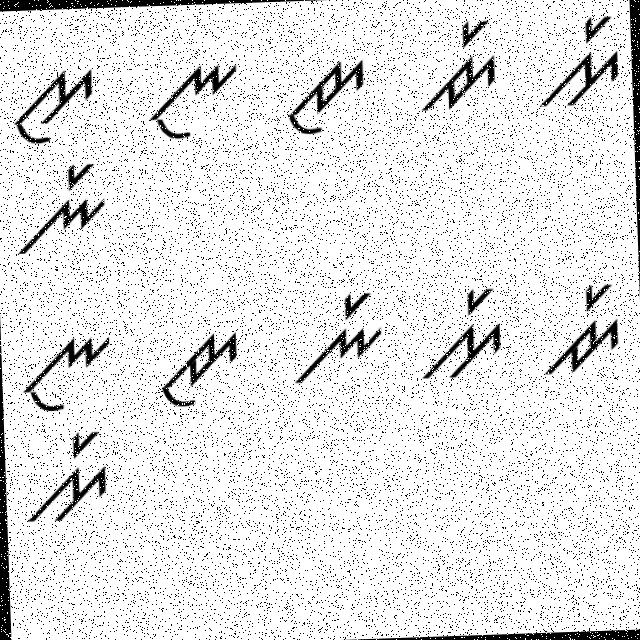jar: (409, 15, 508, 116), (543, 274, 630, 379)
jaw: (283, 54, 374, 146), (152, 324, 244, 414)
nyar: (10, 158, 111, 266), (294, 284, 384, 389)
nyaw: (18, 318, 118, 416), (134, 54, 241, 145)
sar: (407, 280, 511, 383), (532, 10, 628, 111), (22, 427, 113, 528)
saw: (8, 54, 98, 150)
